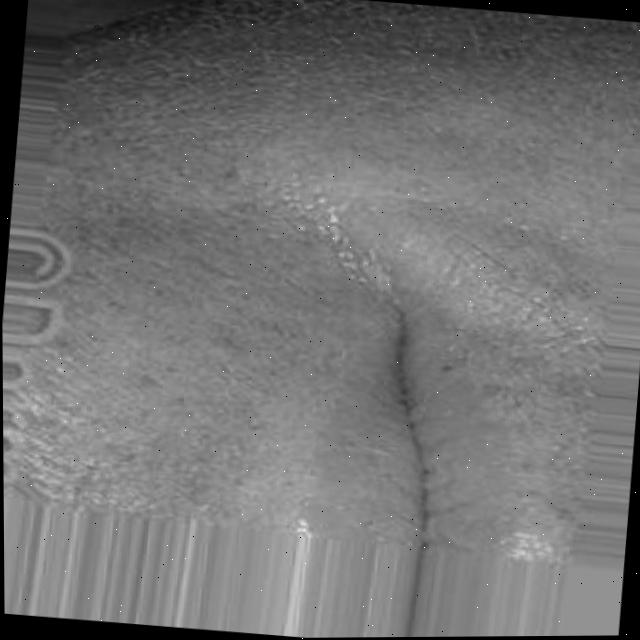Rosacea: (19, 305, 215, 533)
